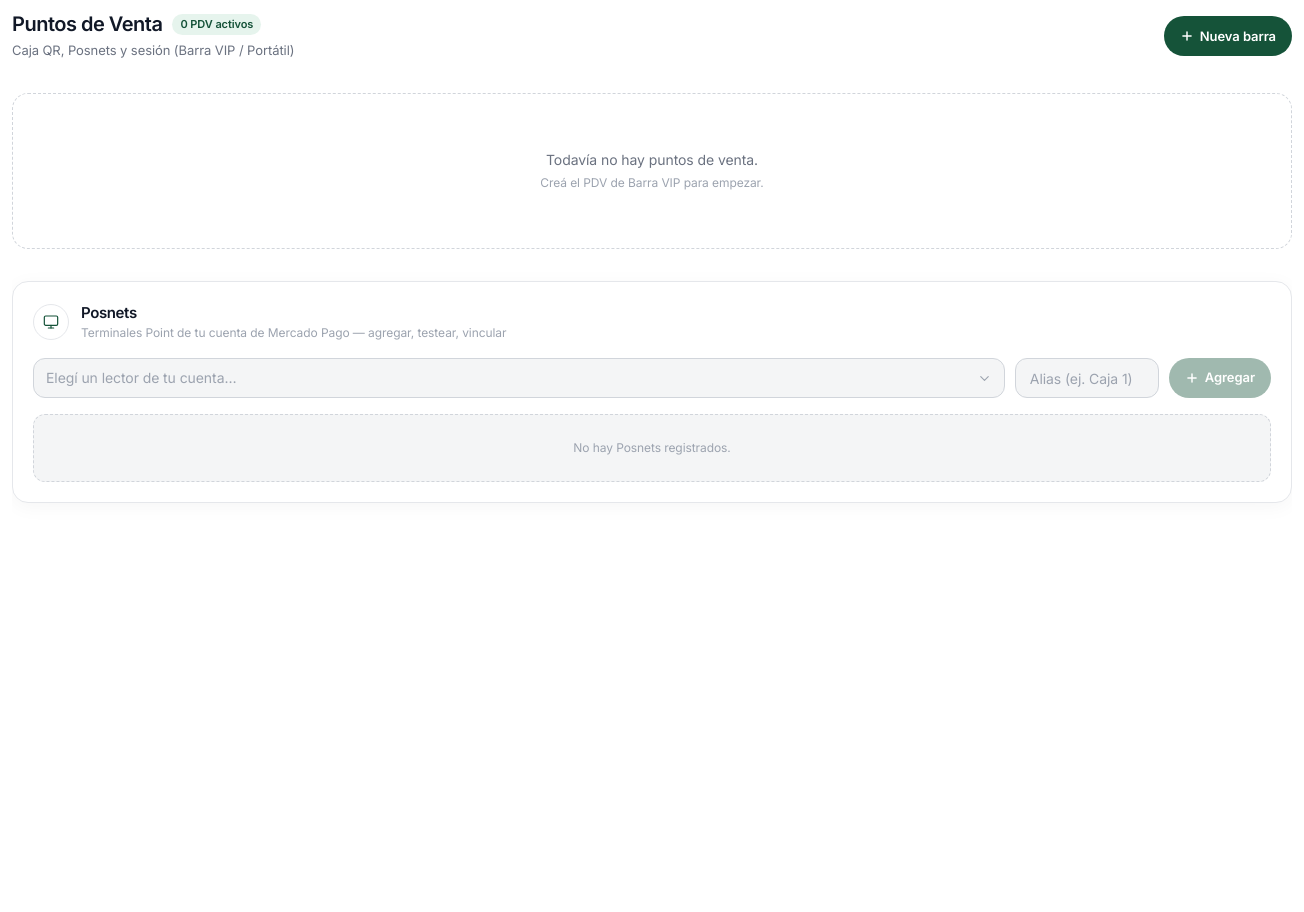
Test: PdvSection › un alta de Posnet fallida muestra un error visible
Expected: the heading "Posnets" is shown, x1=81 y1=302 x2=137 y2=322
Click the button with aria-label "Posnet reportado por Mercado Pago": (141, 378) x1=33 y1=358 x2=1005 y2=398
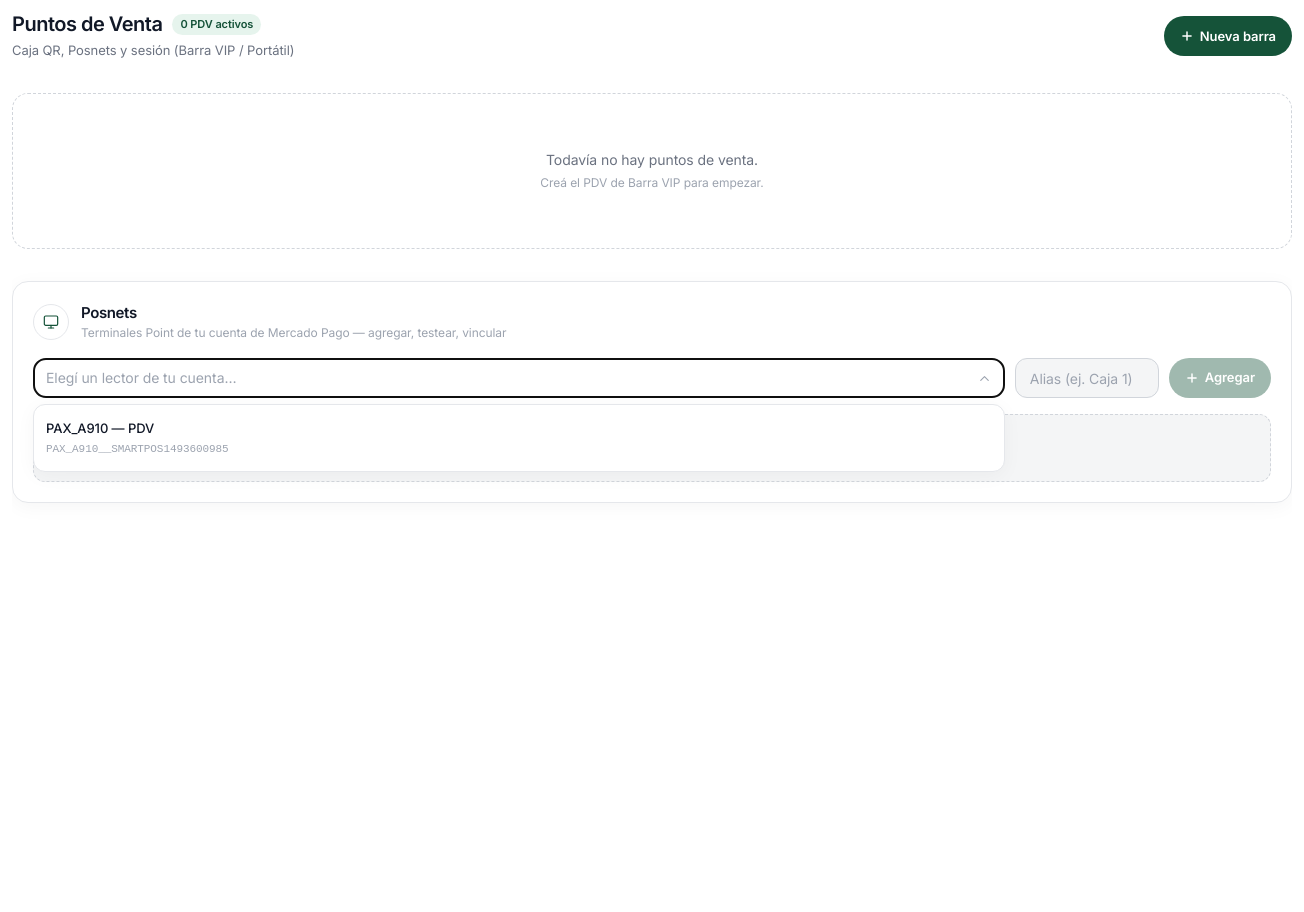
Click the option "PAX_A910 — PDV PAX_A910__SMARTPOS1493600985": (100, 428) x1=34 y1=409 x2=1004 y2=467
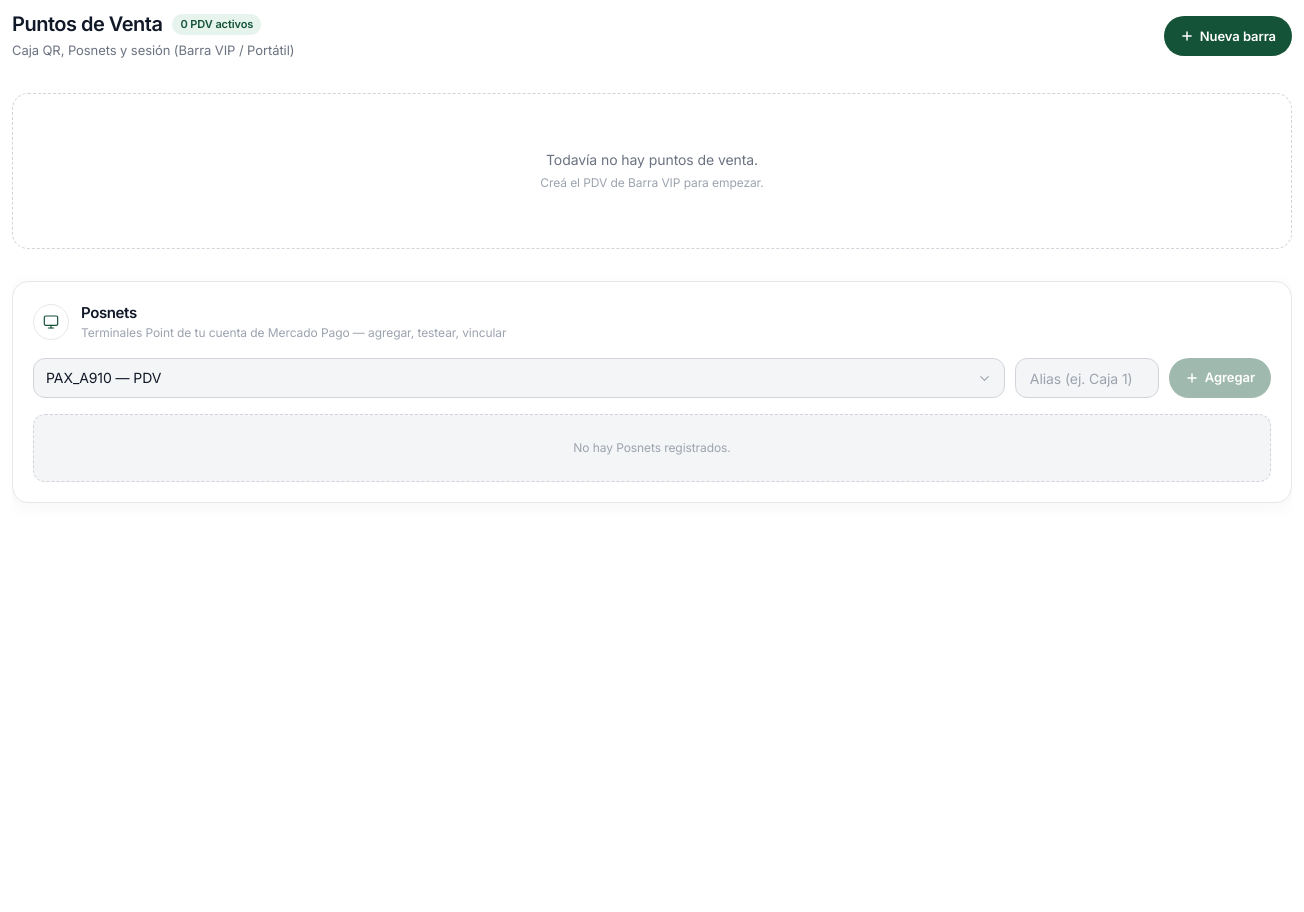
In the field named "Alias del Posnet": (1087, 378) x1=1015 y1=358 x2=1159 y2=398, type "Caja 1"
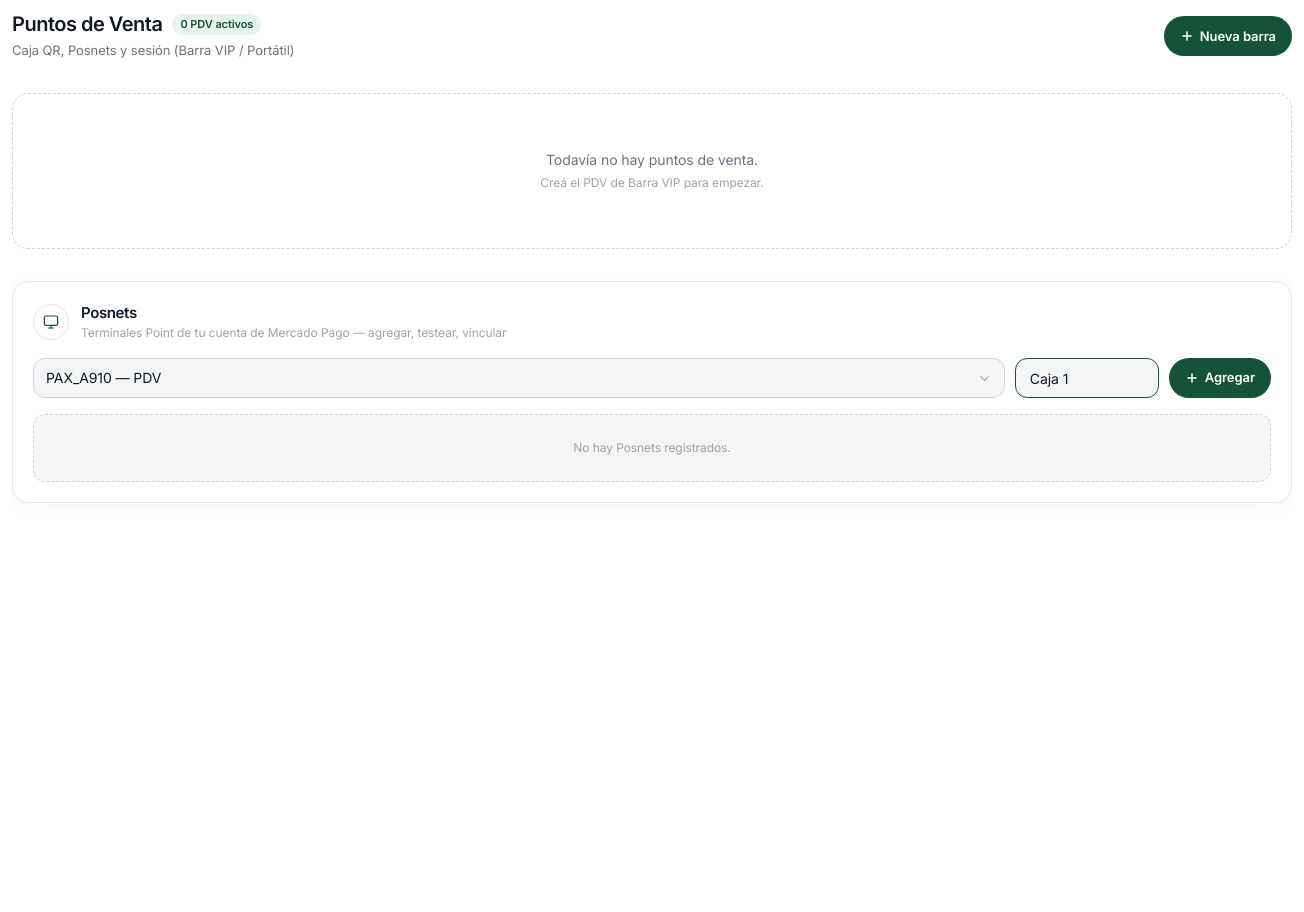
Click the button "Agregar": (1220, 378) x1=1169 y1=358 x2=1271 y2=398
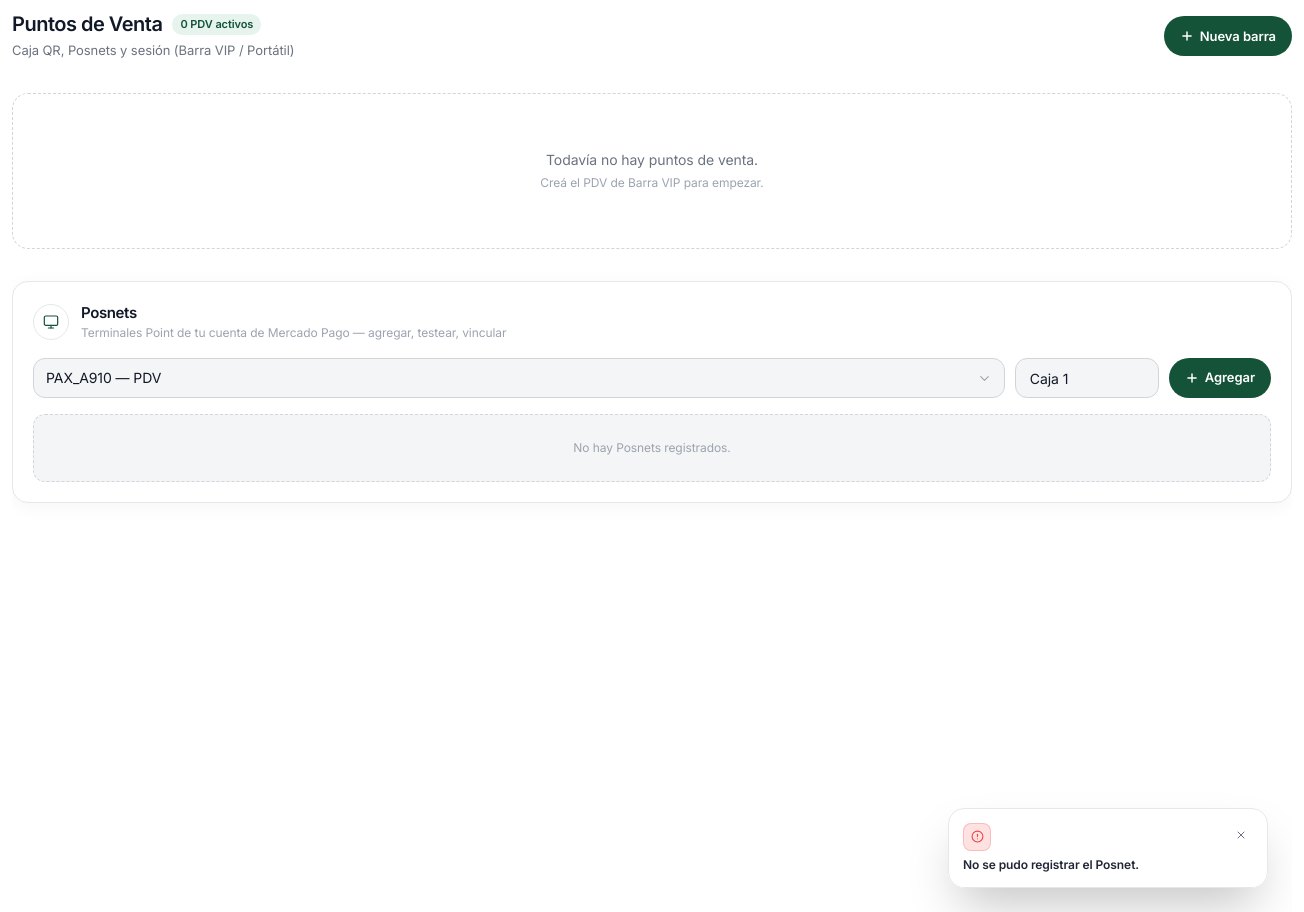
Expected: the text "No se pudo registrar el Posnet." is shown, x1=963 y1=856 x2=1139 y2=872
